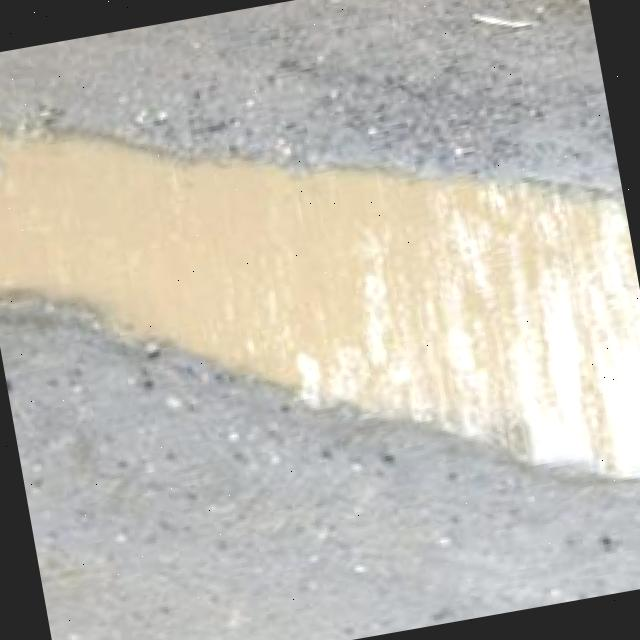stagnation: (0, 101, 640, 481)
